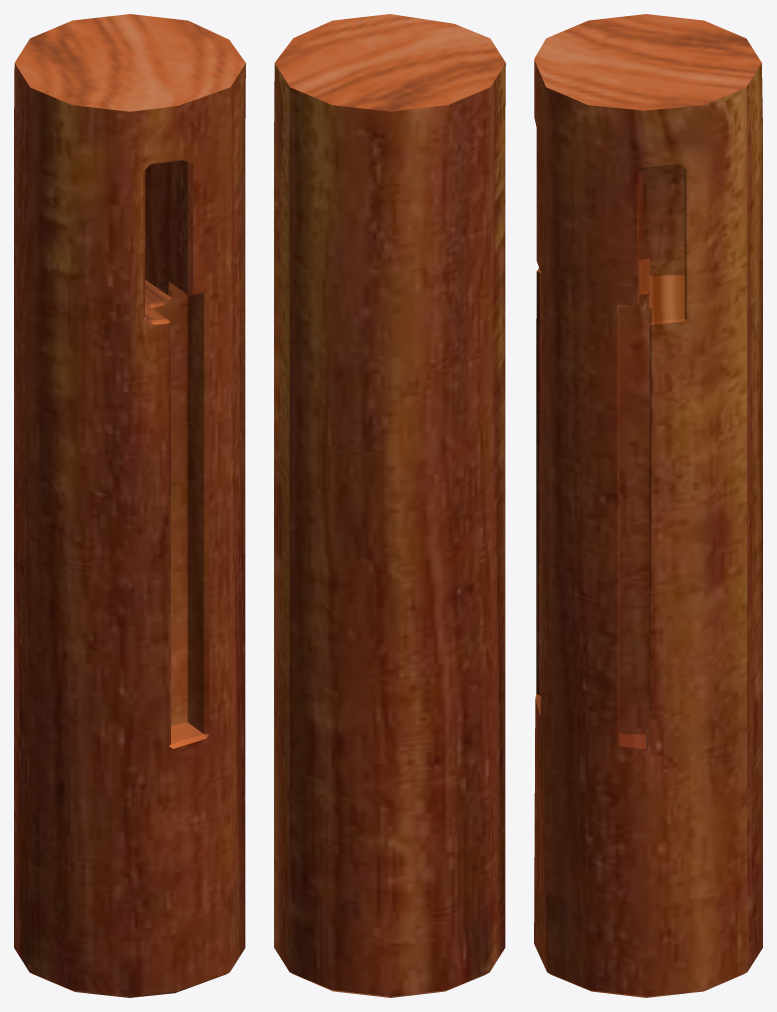
File: SJ_J_tui_006.FBX
3 renders of one model, left to right at view 1: azimuth 30°, elevation 25°; view 2: azimuth 150°, elevation 25°; view 3: azimuth 270°, elevation 25°, orthographic.
Parts seen in each view (by area): view 1: SJ_J_tui_006; view 2: SJ_J_tui_006; view 3: SJ_J_tui_006.
Boxes of the visible parts, x1,y1,x2,y2 form: SJ_J_tui_006: [14, 14, 245, 997]; SJ_J_tui_006: [274, 14, 505, 997]; SJ_J_tui_006: [534, 14, 762, 997].
Size of the model in its own units: 4.04 by 17.11 by 4.
2 materials, 2 textured.
